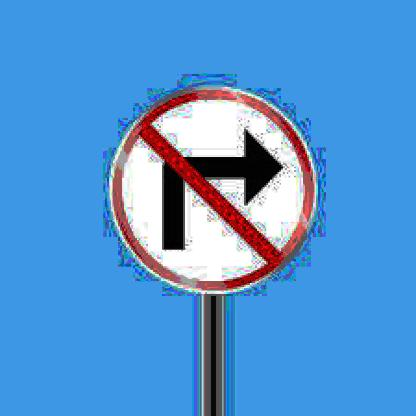No right turn: (110, 89, 318, 294)
